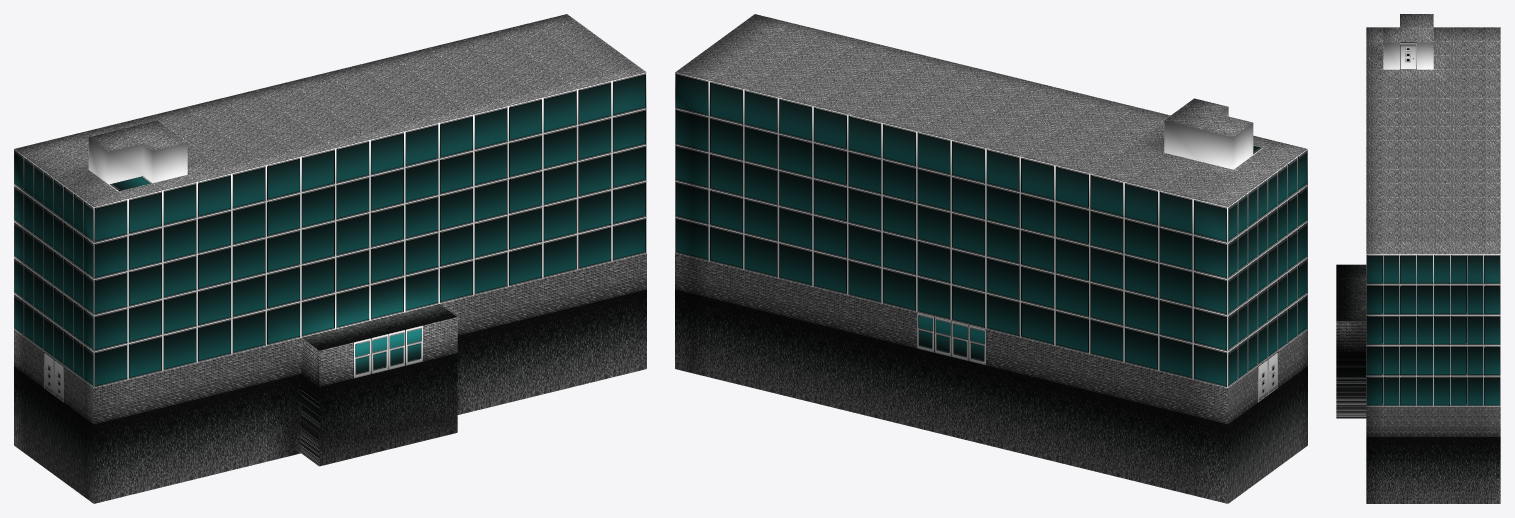
Rendered from kantoor_mod1_3a.fbx.
3 renders of one model, left to right at view 1: azimuth 30°, elevation 25°; view 2: azimuth 150°, elevation 25°; view 3: azimuth 270°, elevation 25°, orthographic. The views are drawn at different scales.
Visible parts, largest first — view 1: kantoor_mod1_3a; view 2: kantoor_mod1_3a; view 3: kantoor_mod1_3a.
Part boxes in pixels (x1,y1,x2,y2): kantoor_mod1_3a: (14, 14, 646, 503); kantoor_mod1_3a: (675, 14, 1307, 503); kantoor_mod1_3a: (1336, 14, 1500, 503).
Size of the model in its own units: 5760 by 3276 by 1764.
